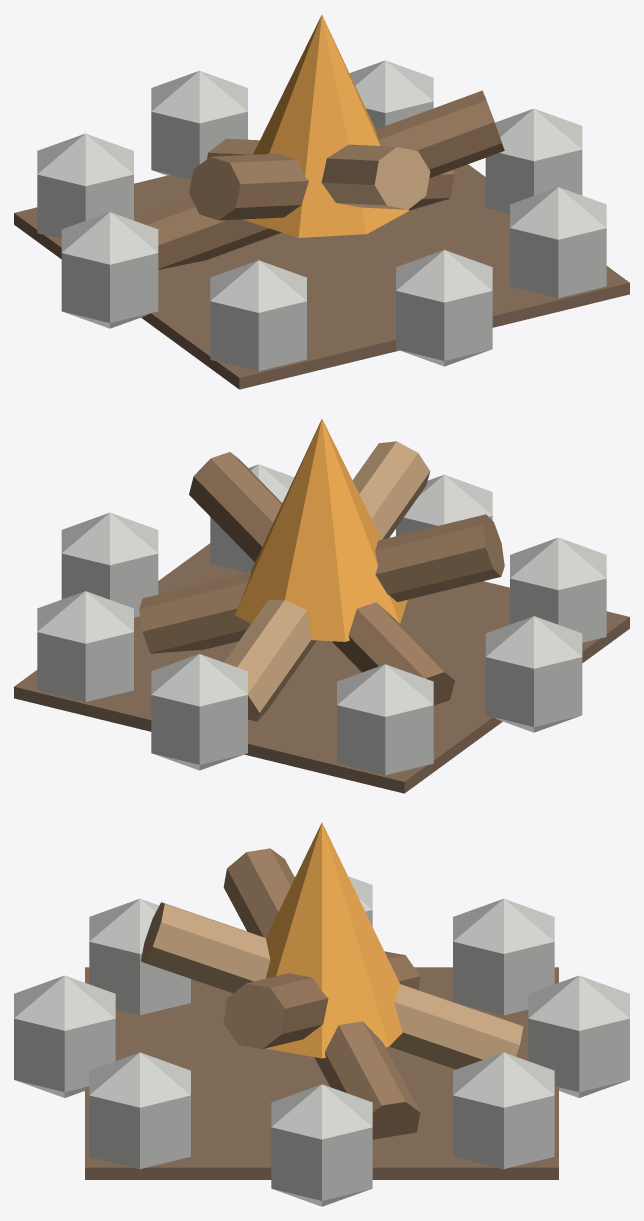
Rendered from campfire.glb.
3 views of the same model, one above another, from view 1: azimuth 30°, elevation 25°; view 2: azimuth 150°, elevation 25°; view 3: azimuth 270°, elevation 25° (orthographic). The views are drawn at different scales.
Parts seen in each view (by area): view 1: campfire; view 2: campfire; view 3: campfire.
Part boxes in pixels (x1,y1,x2,y2): campfire: (14, 15, 629, 389); campfire: (14, 419, 629, 793); campfire: (14, 822, 629, 1206).
Size of the model in its own units: 0.9332 by 0.45 by 0.91.
